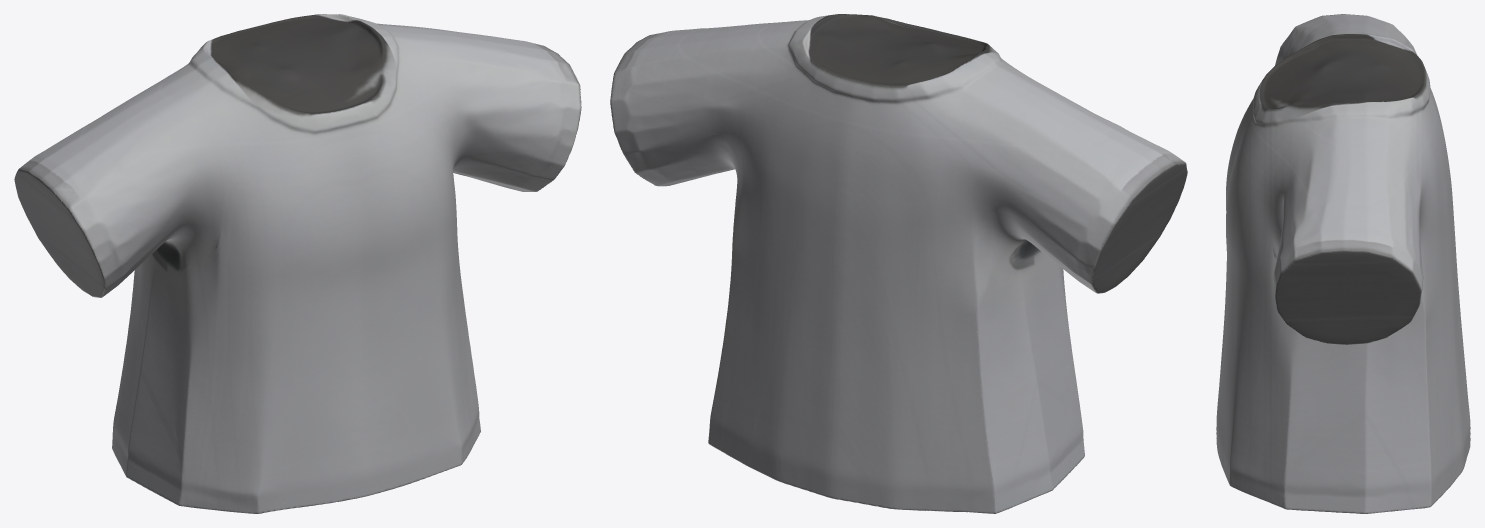
The model's file is top_tshirt.glb.
The picture shows the model from 3 angles, left to right: view 1: azimuth 30°, elevation 25°; view 2: azimuth 150°, elevation 25°; view 3: azimuth 270°, elevation 25°; orthographic projection. The views are drawn at different scales.
Parts seen in each view (by area): view 1: tripo_node_d492ce1a-e5b6-4aed-be5e-65cc63f1b75e; view 2: tripo_node_d492ce1a-e5b6-4aed-be5e-65cc63f1b75e; view 3: tripo_node_d492ce1a-e5b6-4aed-be5e-65cc63f1b75e.
Part boxes in pixels (left/top/right/bottom): tripo_node_d492ce1a-e5b6-4aed-be5e-65cc63f1b75e: left=14, top=14, right=581, bottom=513; tripo_node_d492ce1a-e5b6-4aed-be5e-65cc63f1b75e: left=610, top=14, right=1187, bottom=513; tripo_node_d492ce1a-e5b6-4aed-be5e-65cc63f1b75e: left=1216, top=14, right=1470, bottom=513.
Bounding box in the file's own units: 1 × 0.7454 × 0.4543.
Materials: 1 (1 with a texture image).
